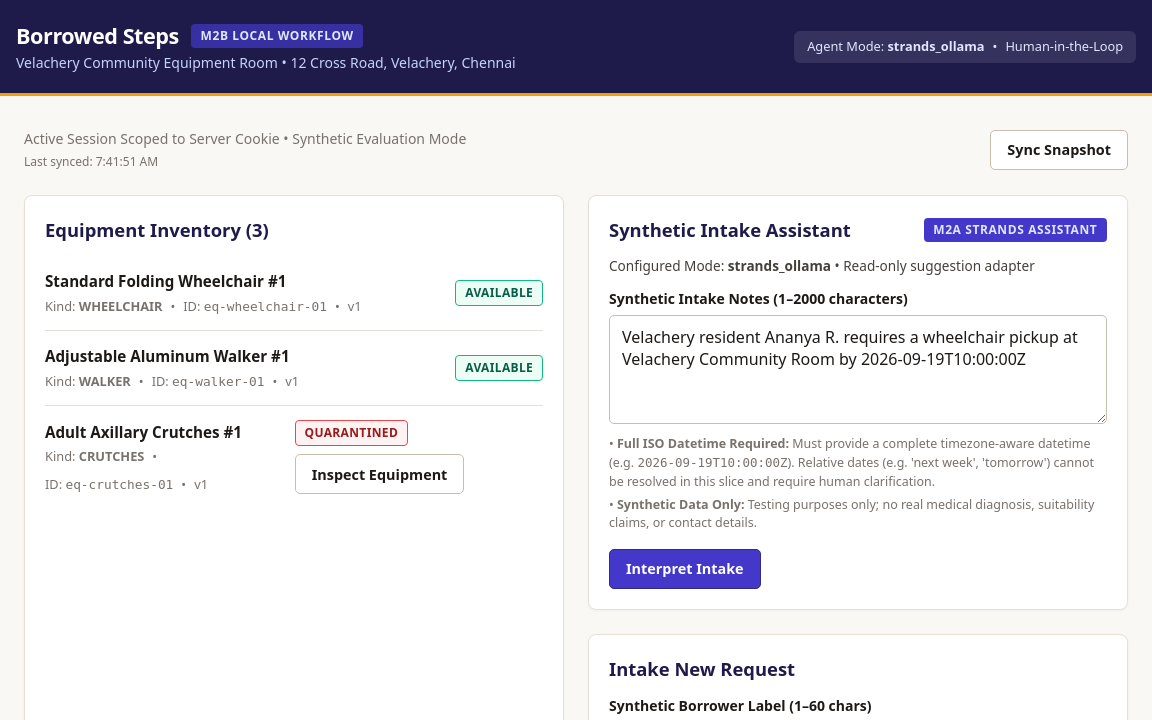
Test: App clears old suggestion after explicit workspace recreation following intake401
Expected: the text "Standard Folding Wheelchair #1" is shown, [45, 271, 286, 291]
Click the button "Interpret Intake" at x=685, y=569, box [609, 549, 761, 589]
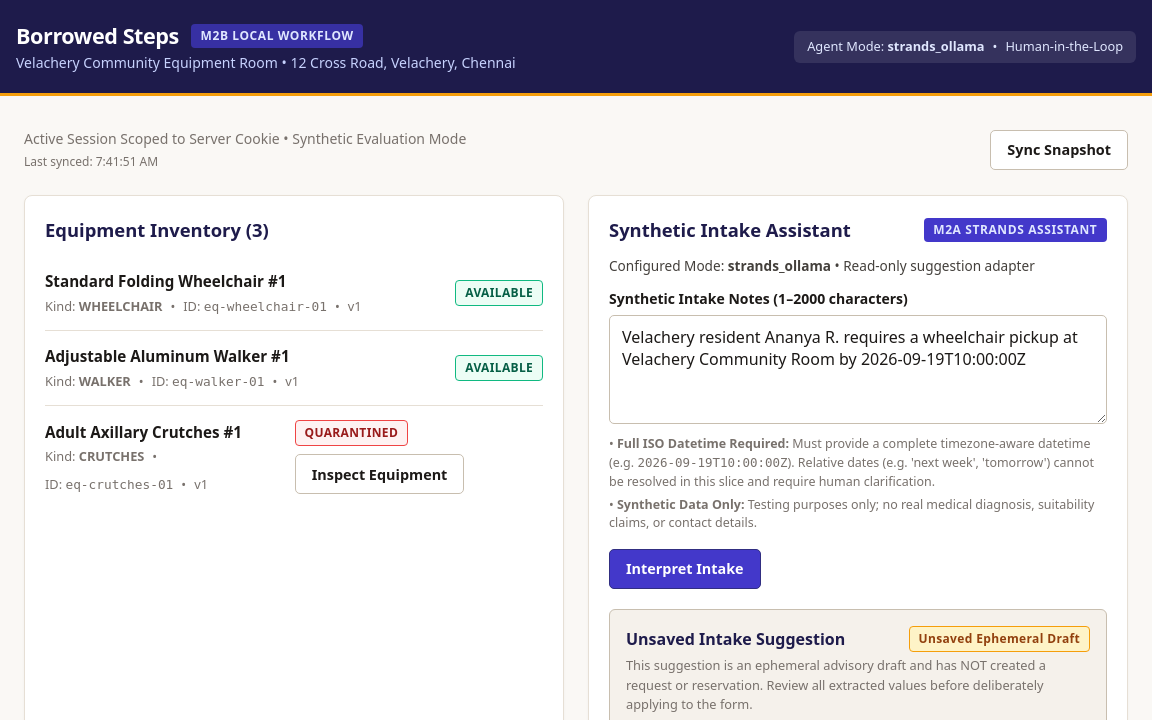
Now the heading "Unsaved Intake Suggestion" is shown, box [626, 627, 845, 651]
Click the button "Interpret Intake" at x=685, y=569, box [609, 549, 761, 589]
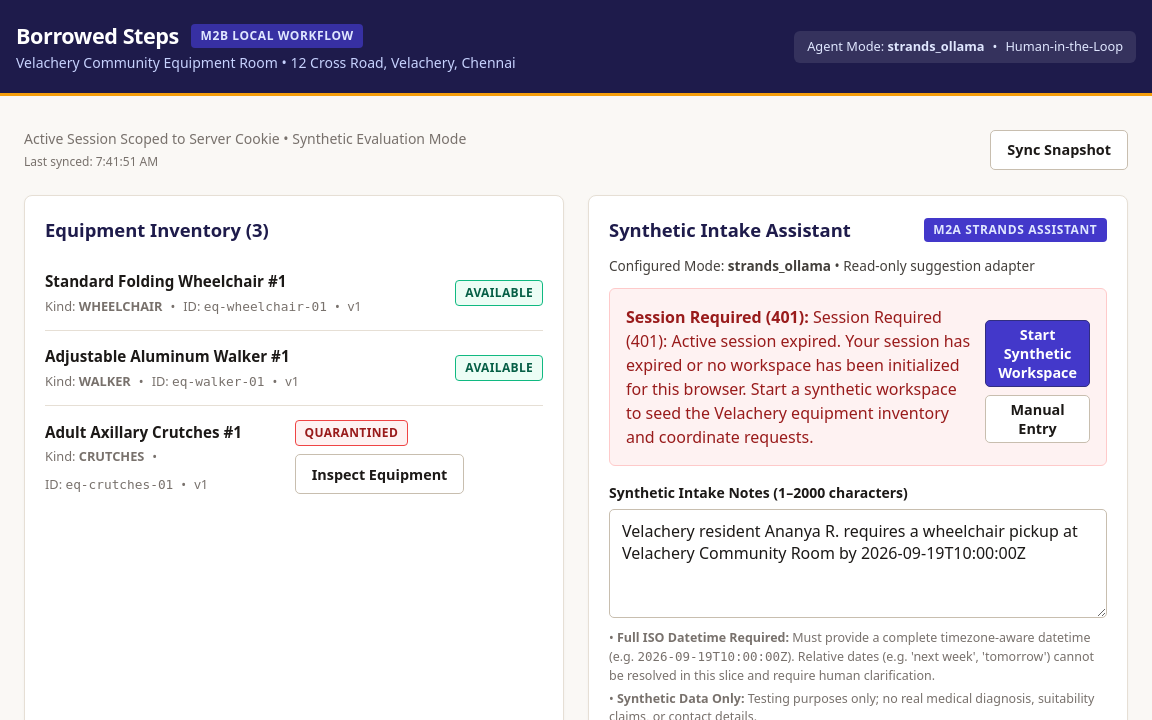
Now the button "Start Synthetic Workspace" is shown
Click the button "Start Synthetic Workspace" at x=1038, y=353, box [985, 320, 1090, 387]
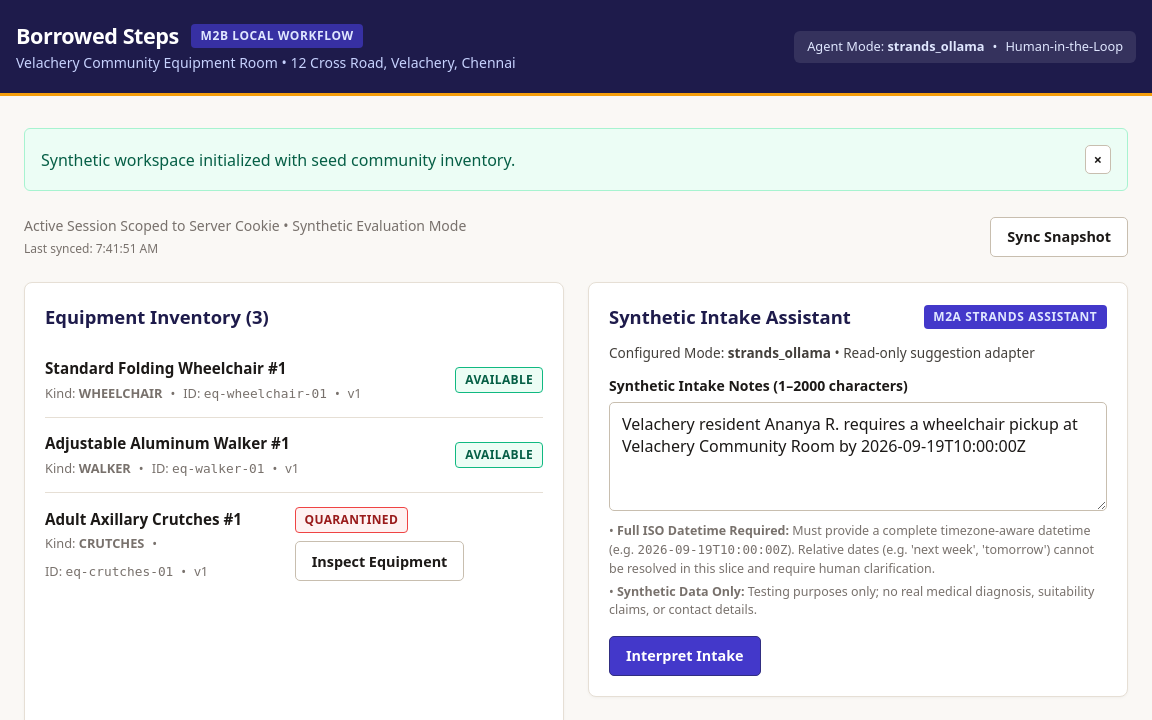
Now the text "Synthetic workspace initialized with seed community inventory." is shown, box [41, 148, 515, 172]
